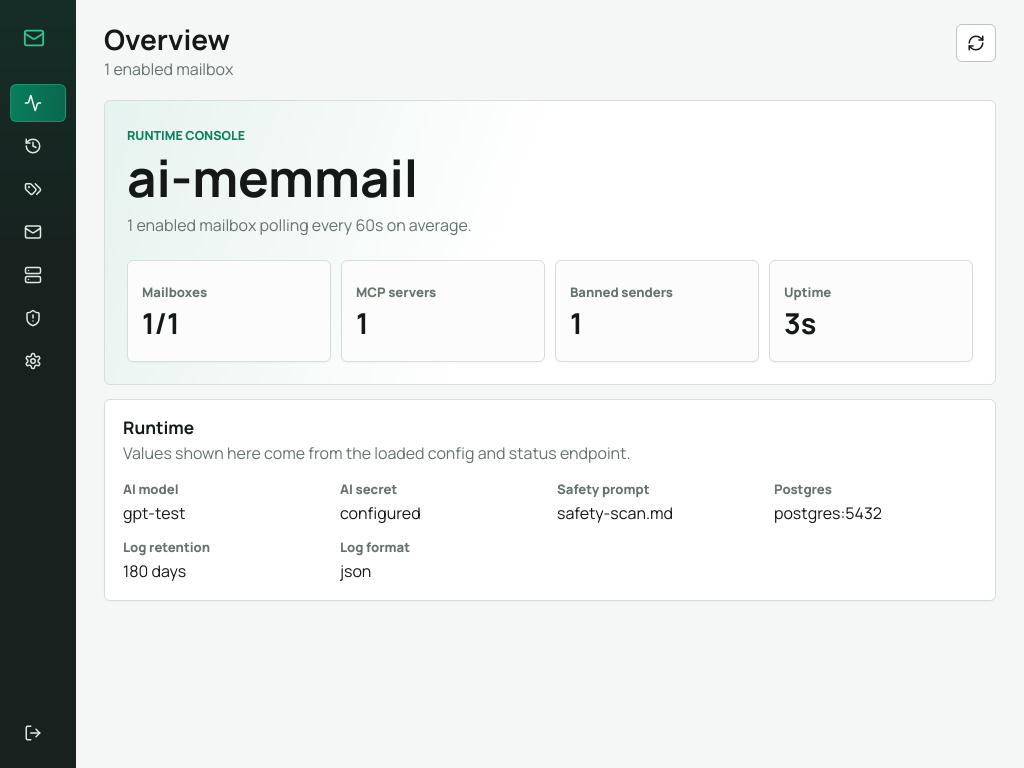
Test case: App history › keeps operational handoff separate from normal forward
Click the button "History" at (38, 146), box [10,127,66,165]
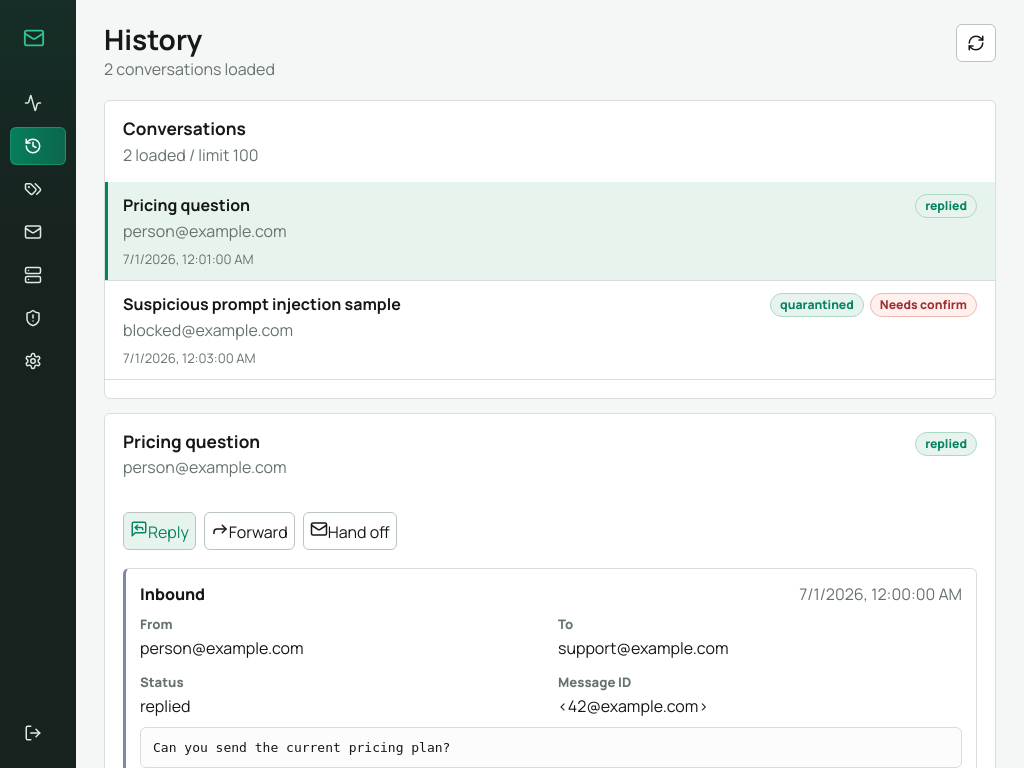
Click the button "Hand off" at (350, 532), box [303,512,397,550]
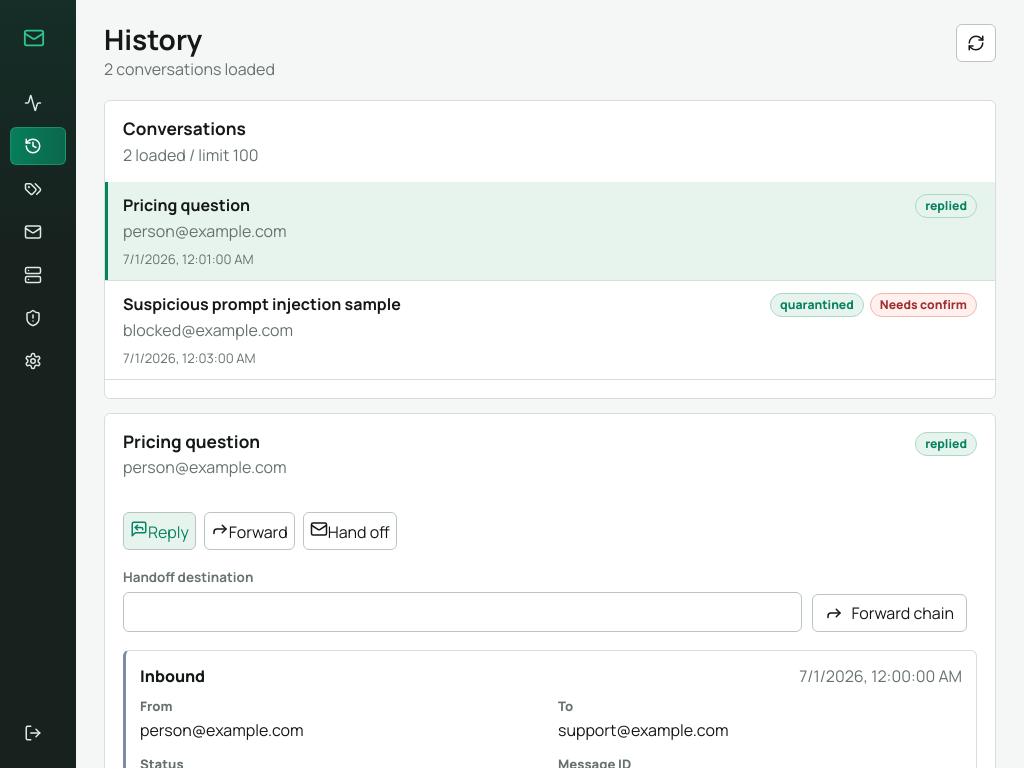
Type "mark.personal@example.com" into the field labelled "Handoff destination" at (463, 612), box [123,592,802,632]
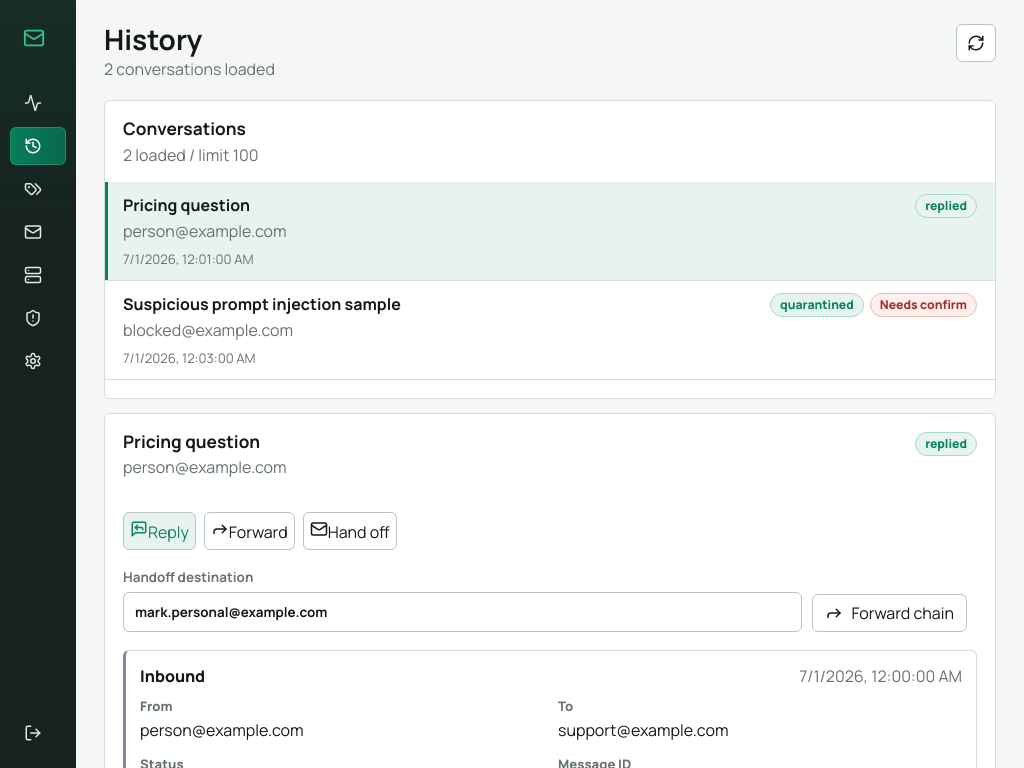
Click the button "Forward chain" at (890, 614), box [812,594,967,632]
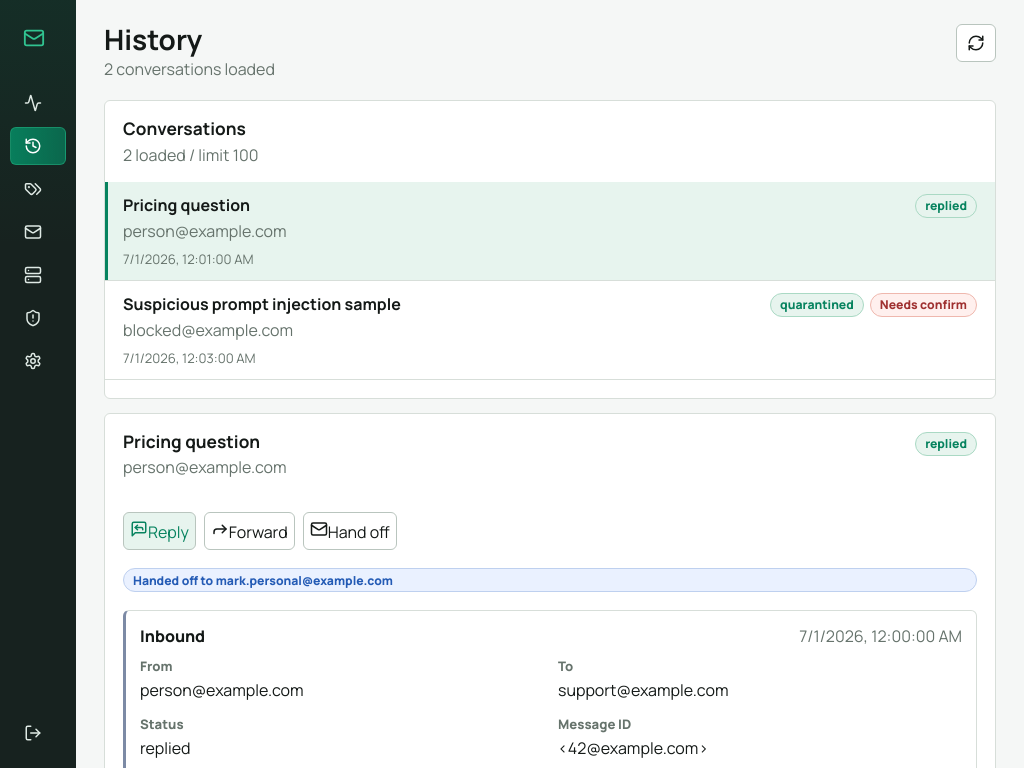
Result: the text "Handed off to mark.personal@example.com" is shown at [123,568,977,592]
